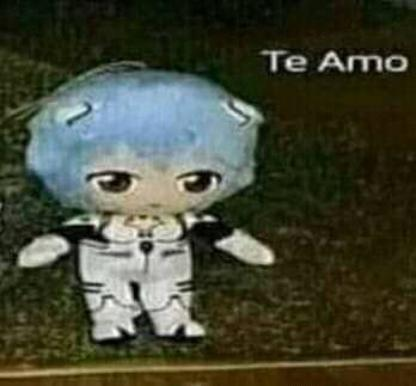rei-plush: (8, 64, 278, 348)
